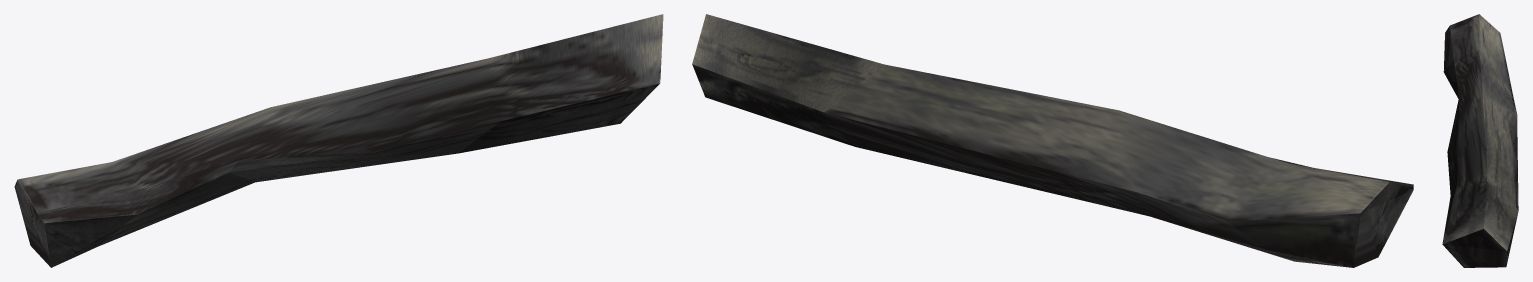
The model's file is snow_curved_old_woodlog.glb.
3 renders of one model, left to right at view 1: azimuth 30°, elevation 25°; view 2: azimuth 150°, elevation 25°; view 3: azimuth 270°, elevation 25°, orthographic. The views are drawn at different scales.
Visible parts, largest first — view 1: _MeshInstance3D_16; view 2: _MeshInstance3D_16; view 3: _MeshInstance3D_16.
Part boxes in pixels (bbox=[...]): _MeshInstance3D_16: bbox=[14, 14, 663, 267]; _MeshInstance3D_16: bbox=[692, 14, 1413, 267]; _MeshInstance3D_16: bbox=[1442, 14, 1518, 267].
Bounding box in the file's own units: 2.01 × 0.2966 × 0.2963.
Materials: 1 (1 with a texture image).
